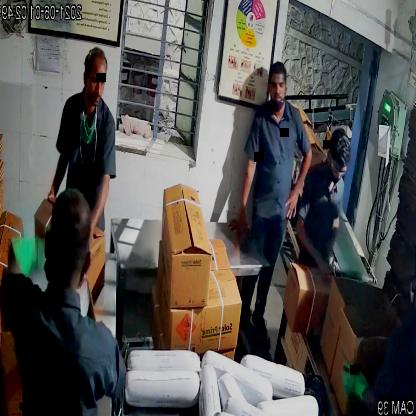goggles: (326, 155, 349, 181)
no_goggles: (264, 78, 292, 99), (84, 69, 108, 93)
